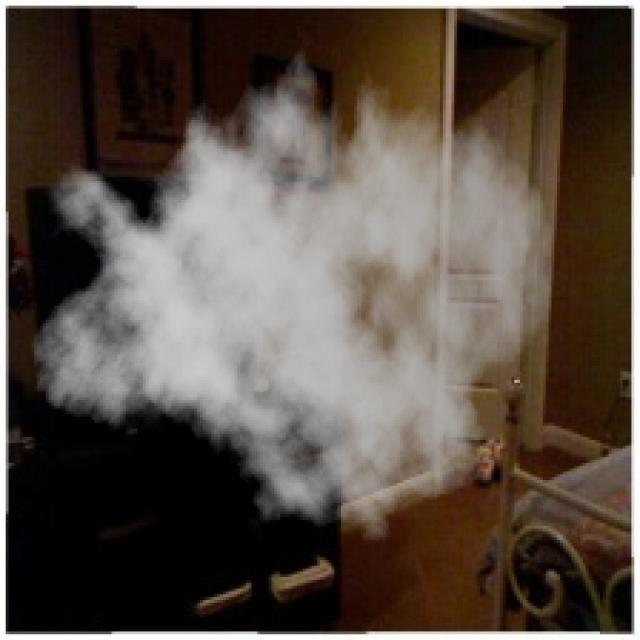Smoke: (28, 26, 554, 554)
